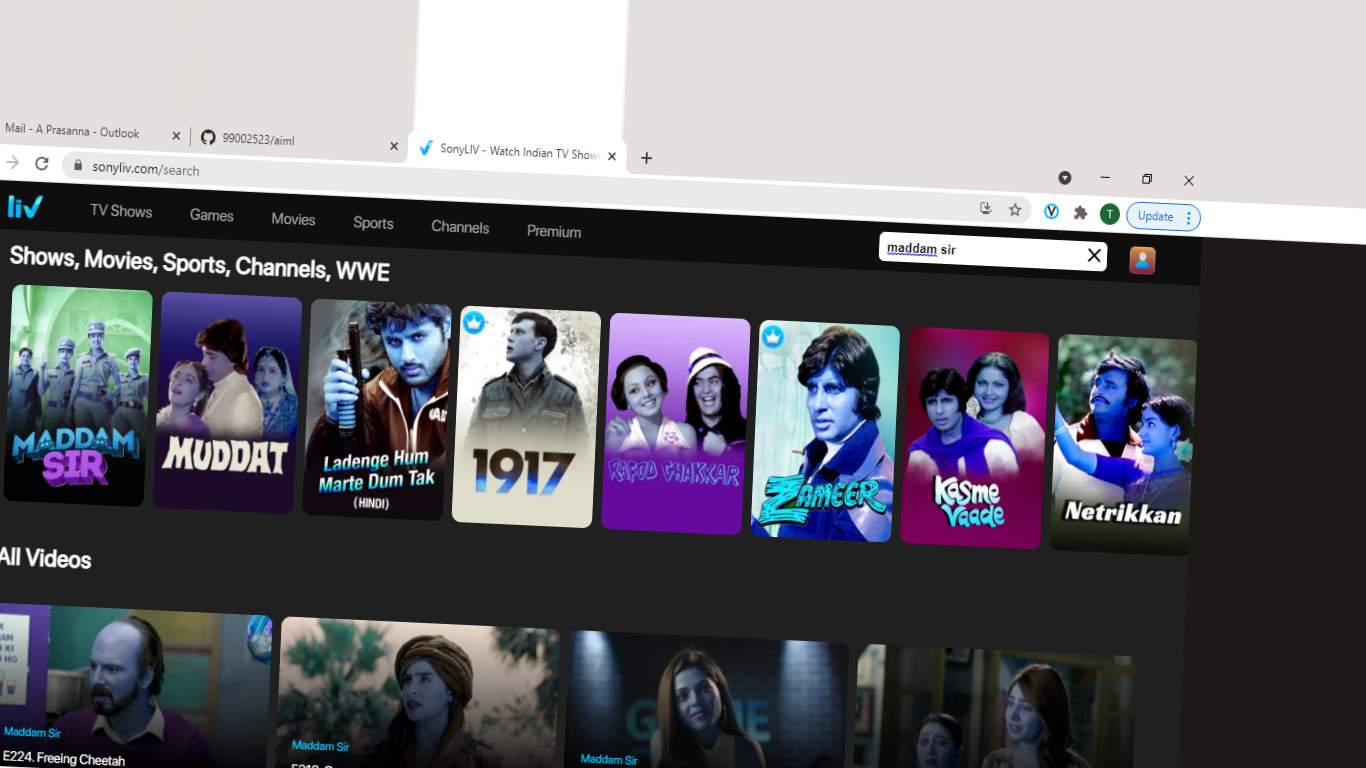profileicon: (1126, 242, 1163, 279)
resultsfound: (7, 244, 435, 307)
searchtextbox: (871, 226, 1112, 277)
